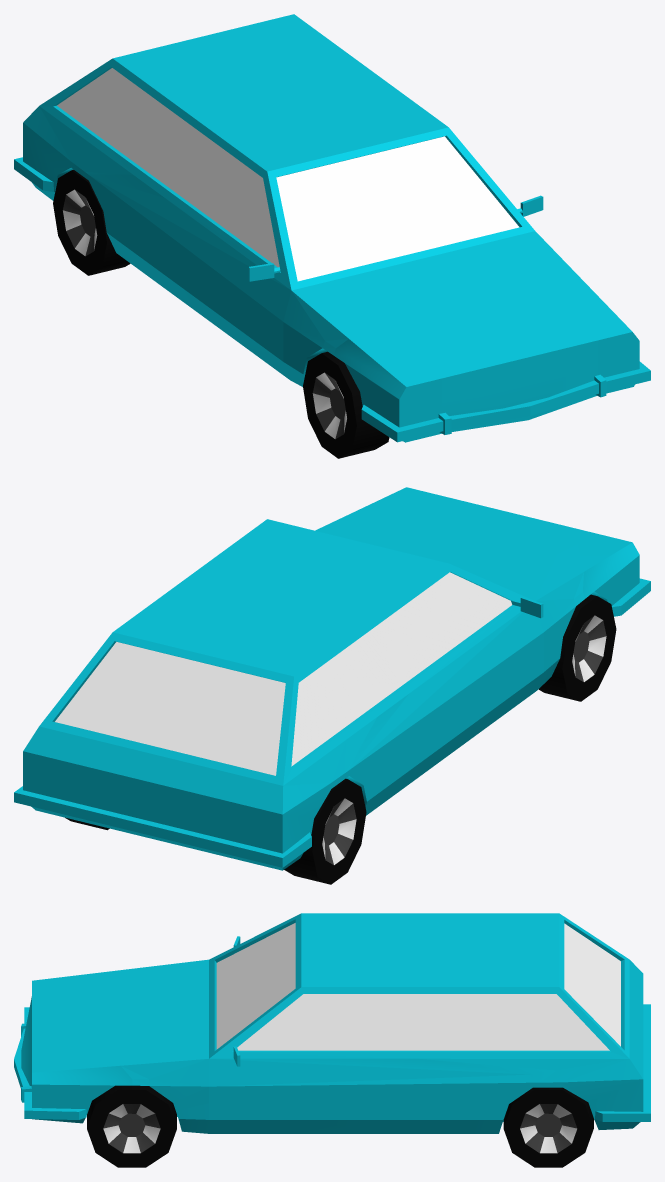
The model's file is COCHE_03.FBX.
The picture shows the model from 3 angles, top to bottom: view 1: azimuth 30°, elevation 25°; view 2: azimuth 150°, elevation 25°; view 3: azimuth 270°, elevation 25°; orthographic projection. The views are drawn at different scales.
Parts seen in each view (by area): view 1: Object010, Object016, Object017; view 2: Object010, Object016, Object017; view 3: Object010, Object011, Object015.
Part boxes in pixels (x1,y1,x2,y2): Object010: (14, 14, 650, 442); Object016: (303, 351, 389, 458); Object017: (53, 170, 130, 275); Object010: (14, 487, 650, 870); Object016: (538, 594, 616, 701); Object017: (284, 778, 366, 884); Object010: (14, 913, 650, 1133); Object011: (87, 1085, 176, 1167); Object015: (503, 1087, 593, 1167).
Bounding box in the file's own units: 39.63 × 25.46 × 89.38.
